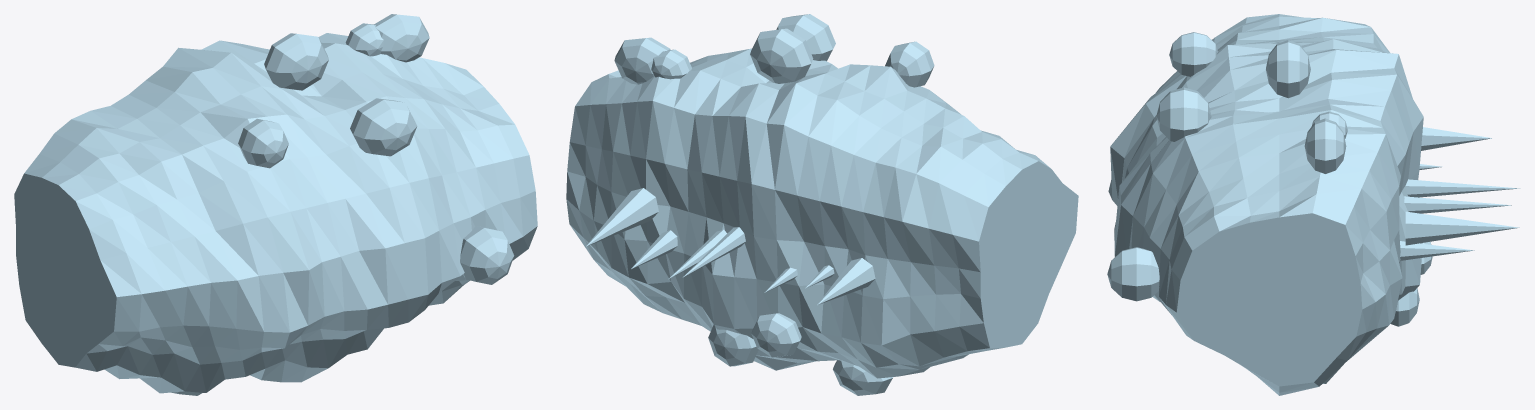
Rendered from ice_block_medium.obj.
The picture shows the model from 3 angles, left to right: view 1: azimuth 30°, elevation 25°; view 2: azimuth 150°, elevation 25°; view 3: azimuth 270°, elevation 25°; orthographic projection. The views are drawn at different scales.
Parts seen in each view (by area): view 1: ice_block_medium; view 2: ice_block_medium; view 3: ice_block_medium.
Part boxes in pixels (<box>): ice_block_medium: <box>14,14,537,395</box>; ice_block_medium: <box>566,14,1078,395</box>; ice_block_medium: <box>1107,14,1520,395</box>.
Bounding box in the file's own units: 1 × 0.7752 × 0.8812.
